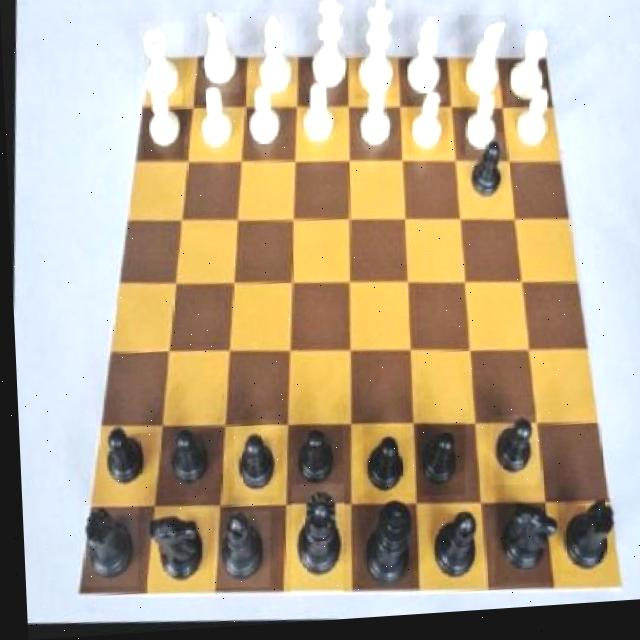bishop: (206, 512, 269, 594), (422, 513, 480, 594)
black-bishop: (348, 494, 419, 595)
black-king: (487, 503, 559, 595), (137, 507, 209, 597)
black-knight: (409, 427, 463, 506), (93, 418, 147, 497), (461, 137, 511, 222), (226, 422, 278, 502), (483, 422, 538, 495), (289, 426, 341, 498), (162, 428, 212, 502), (356, 430, 405, 504)
black-pawn: (282, 486, 344, 600)
black-queen: (548, 504, 613, 588), (77, 503, 137, 591)
black-rook: (400, 15, 450, 111), (254, 16, 300, 108)
white-bishop: (351, 0, 404, 108)
white-king: (455, 20, 511, 112), (195, 14, 244, 99)
white-knight: (139, 84, 187, 164), (194, 80, 240, 158), (510, 93, 560, 163), (351, 88, 401, 158), (457, 92, 506, 162), (403, 91, 450, 162), (297, 82, 340, 156), (244, 85, 291, 152)
white-pawn: (299, 0, 355, 103)
white-queen: (135, 23, 185, 110), (505, 30, 553, 116)
